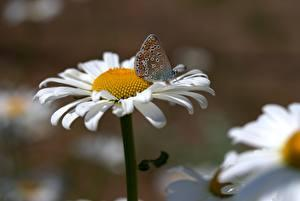chamomile: (52, 55, 198, 117), (240, 114, 300, 201)
